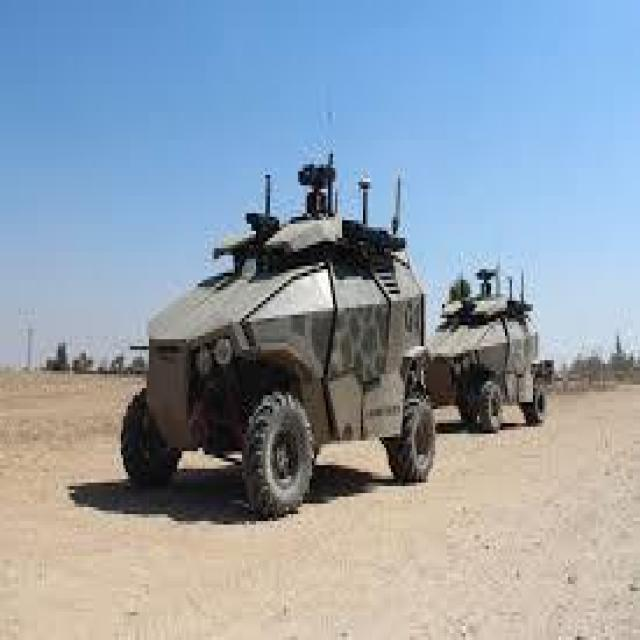Tanks: (124, 166, 422, 505), (424, 241, 558, 434)
